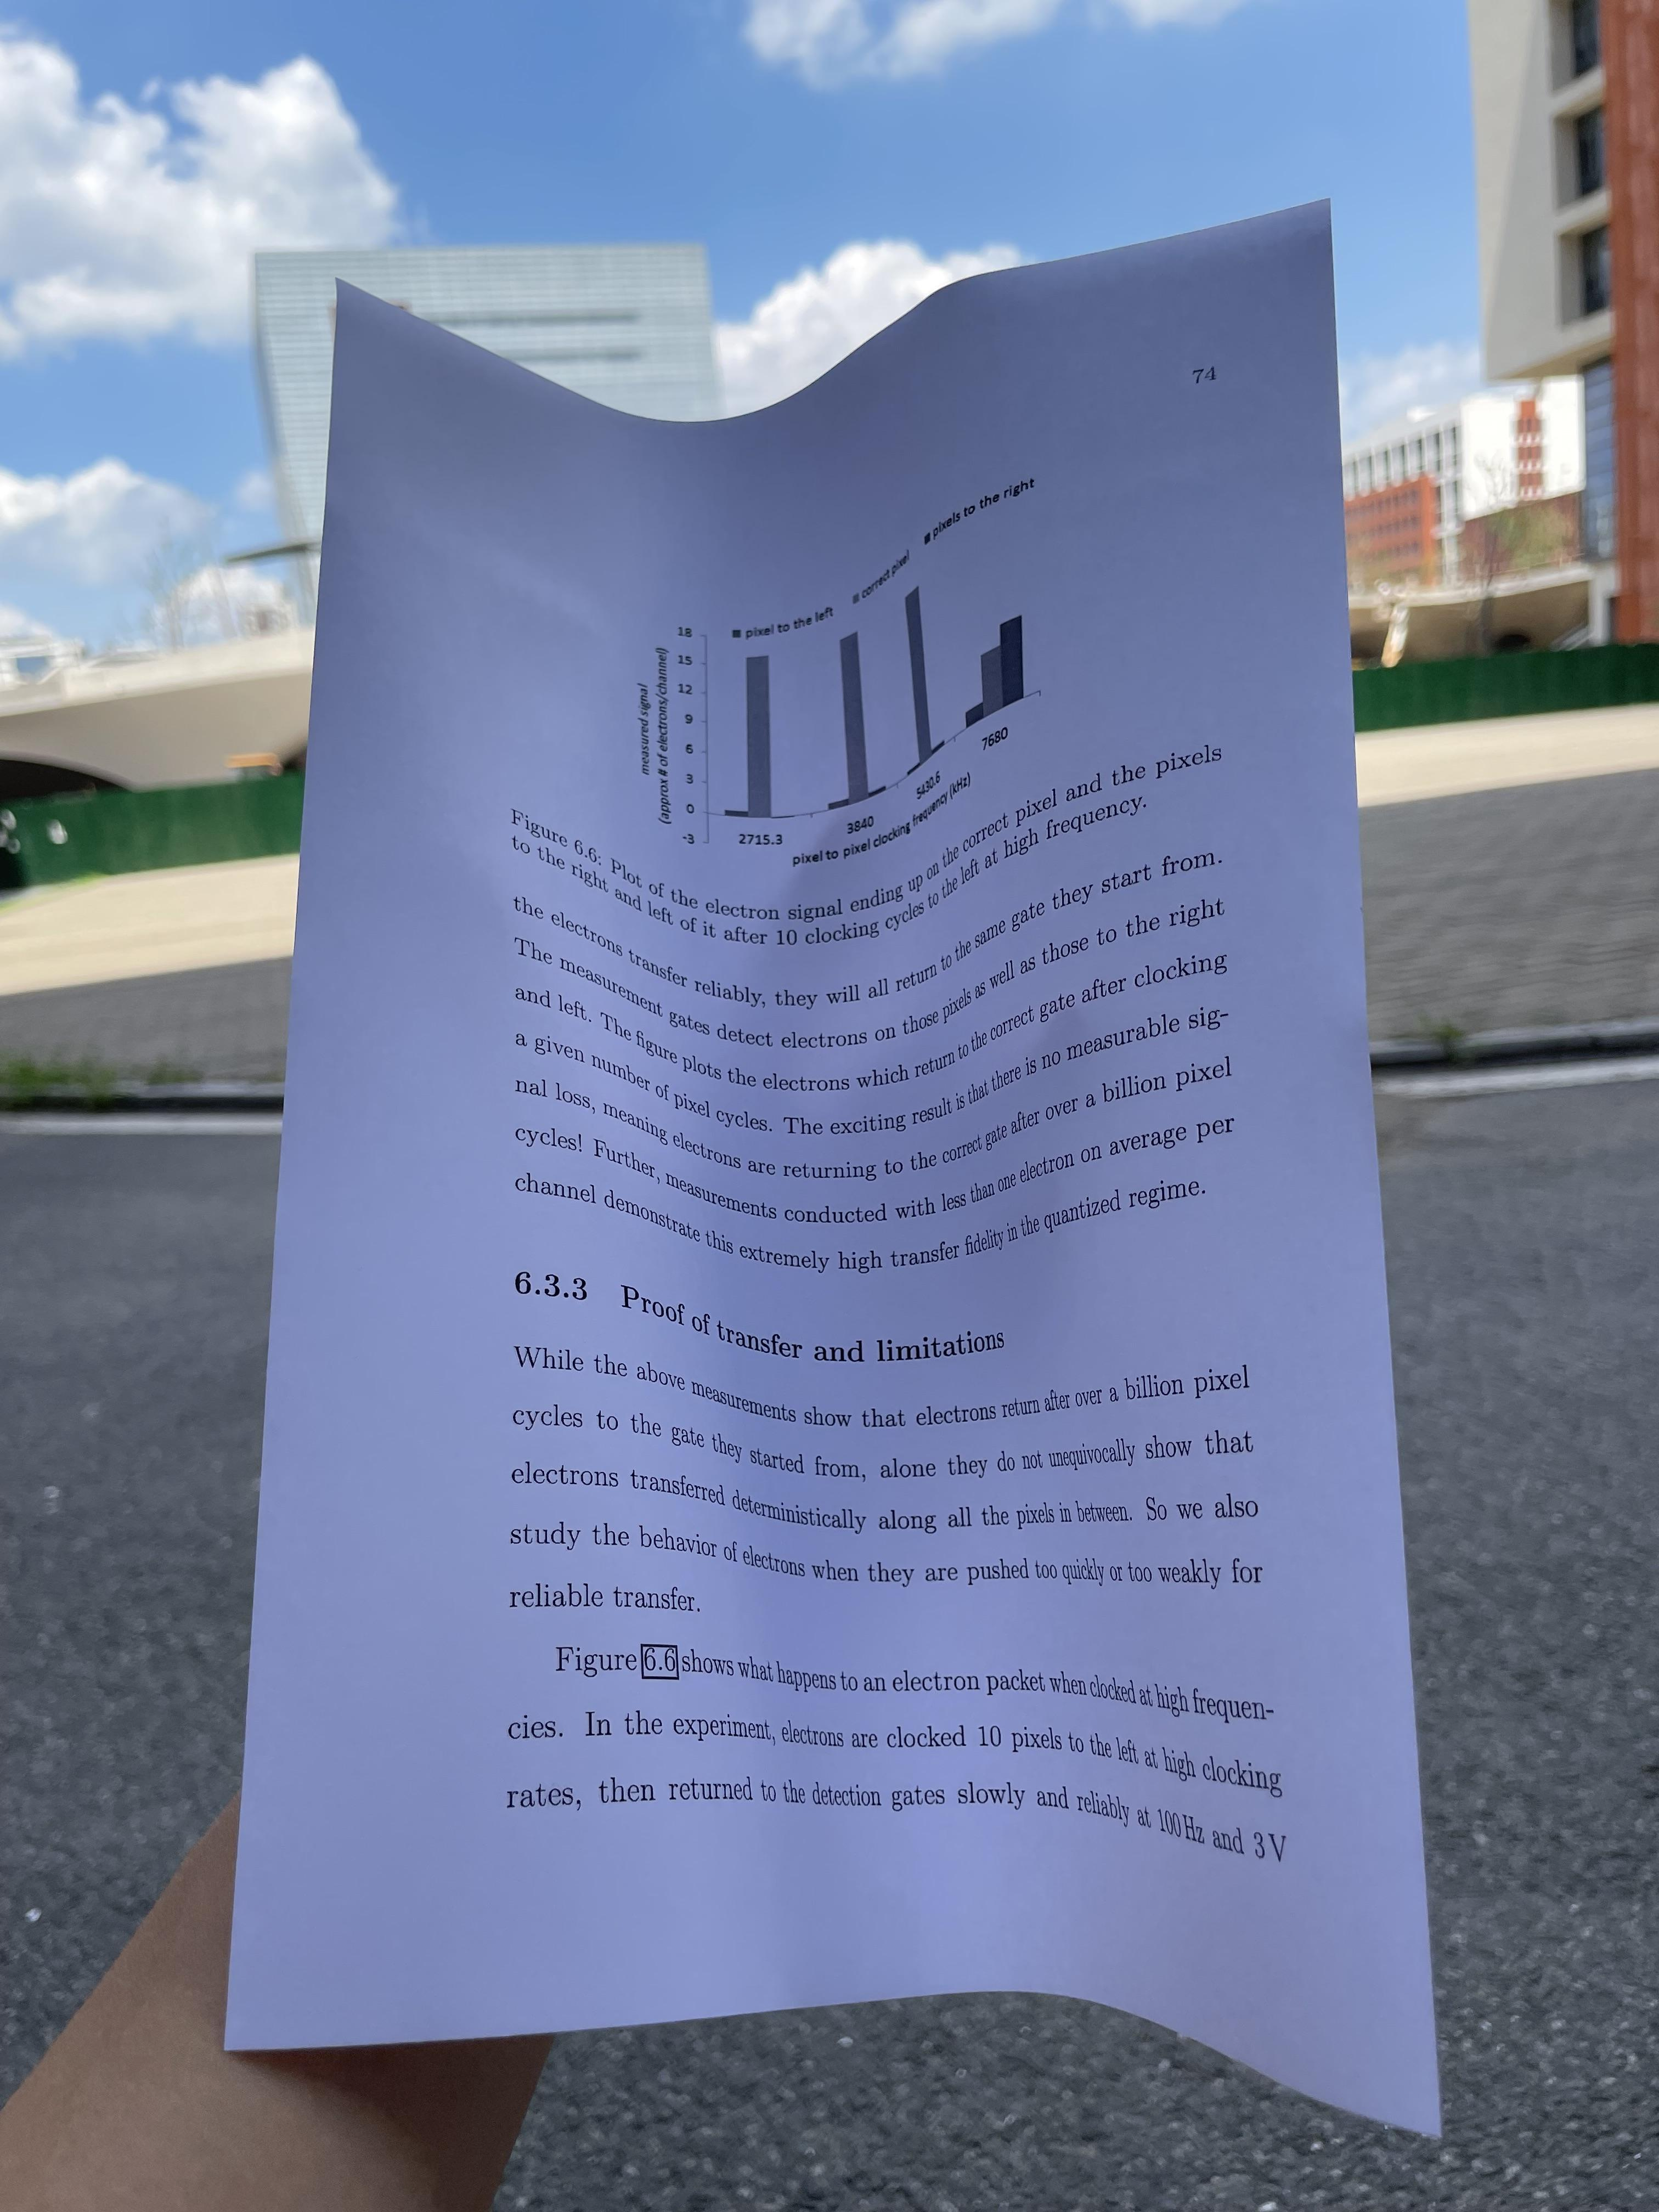paper: (88, 162, 1632, 2191)
